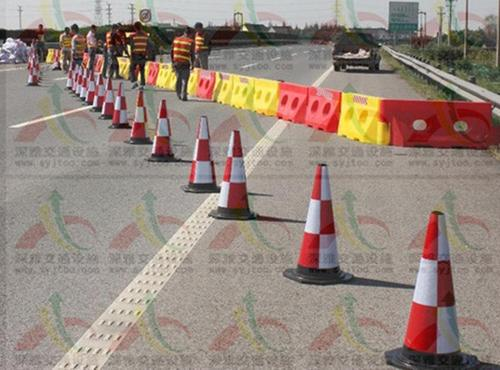cone_barrel: (392, 215, 467, 364), (286, 161, 347, 284), (211, 129, 256, 220), (182, 113, 217, 192), (148, 96, 175, 158), (126, 84, 149, 144), (110, 80, 128, 127), (99, 73, 113, 118), (23, 54, 37, 86), (86, 70, 94, 104)
